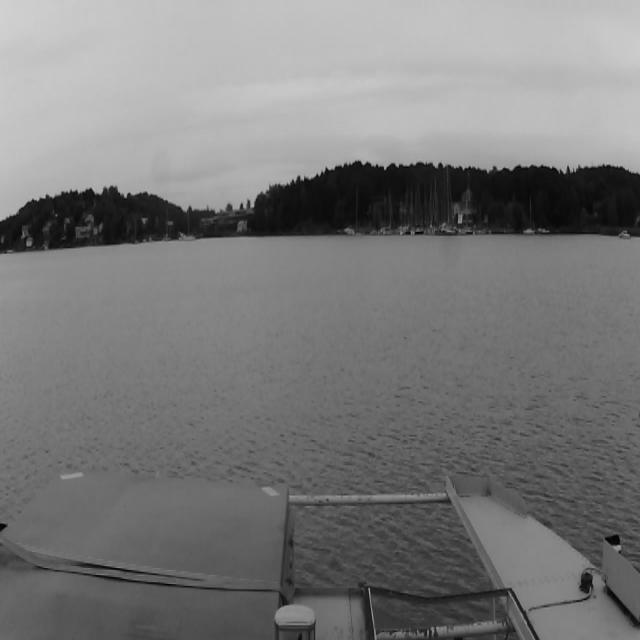ship: (436, 162, 456, 242), (424, 170, 438, 237), (412, 177, 424, 235), (398, 188, 408, 235), (523, 197, 535, 236), (379, 193, 389, 234), (618, 230, 630, 240), (340, 228, 354, 236)
